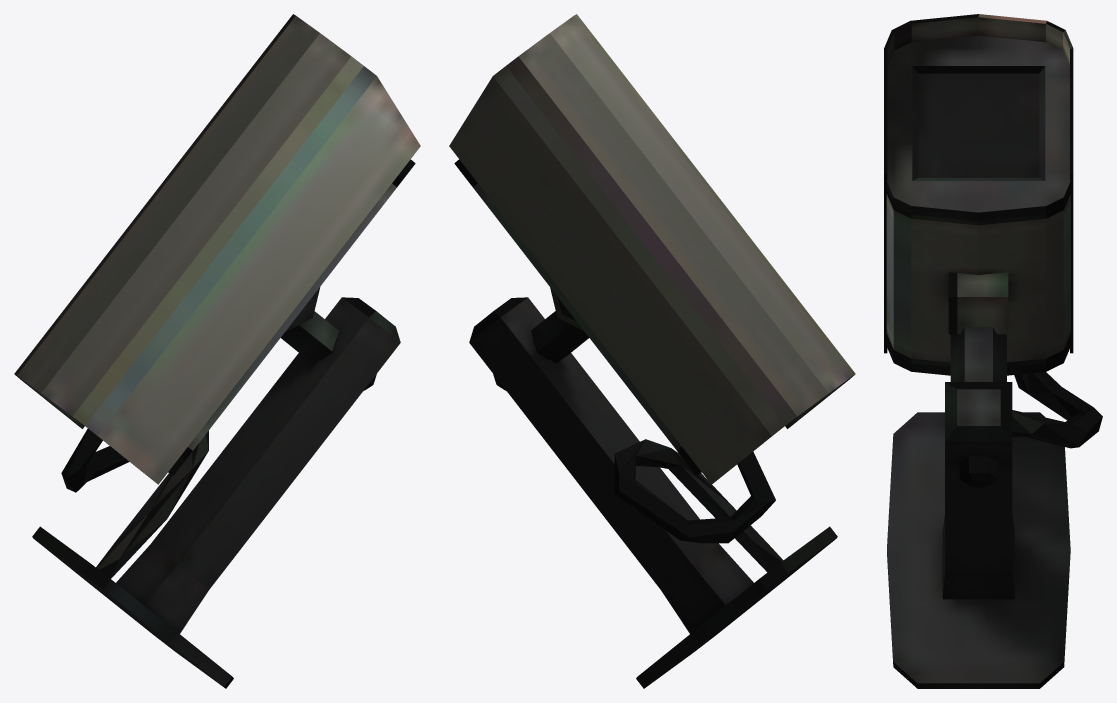
File: camara_seguridad_h.glb
3 views of the same model, side by side, from view 1: azimuth 30°, elevation 25°; view 2: azimuth 150°, elevation 25°; view 3: azimuth 270°, elevation 25° (orthographic). The views are drawn at different scales.
Visible parts, largest first — view 1: NurbsPath; view 2: NurbsPath; view 3: NurbsPath.
Boxes of the visible parts, <box> form: NurbsPath: <box>14,14,420,688</box>; NurbsPath: <box>449,14,855,688</box>; NurbsPath: <box>884,14,1102,688</box>.
Size of the model in its own units: 2.84 by 4.74 by 1.26.
4 materials, 4 textured.
